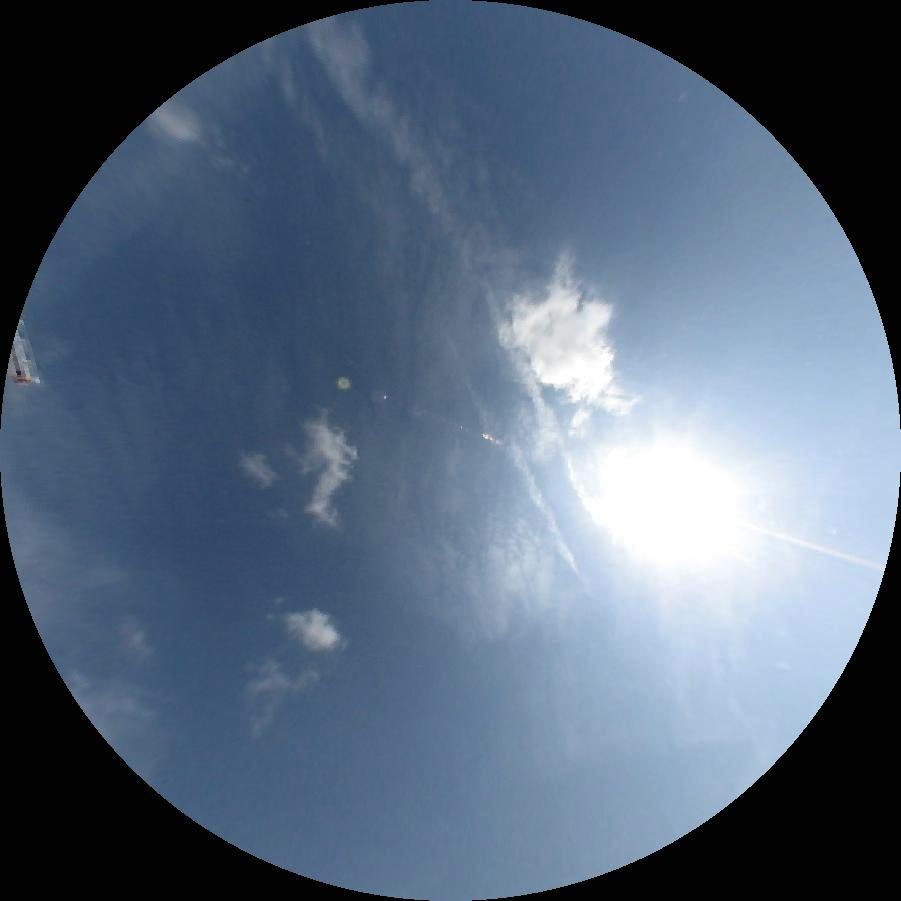contrail veryold: (303, 1, 639, 522), (429, 328, 586, 573)
parasite: (742, 522, 884, 572)
sun: (596, 424, 759, 583)
